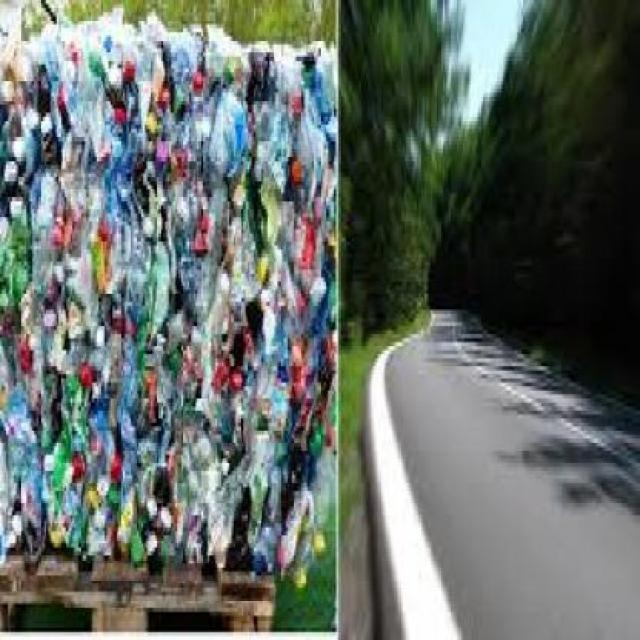garbage: (0, 32, 330, 636)
